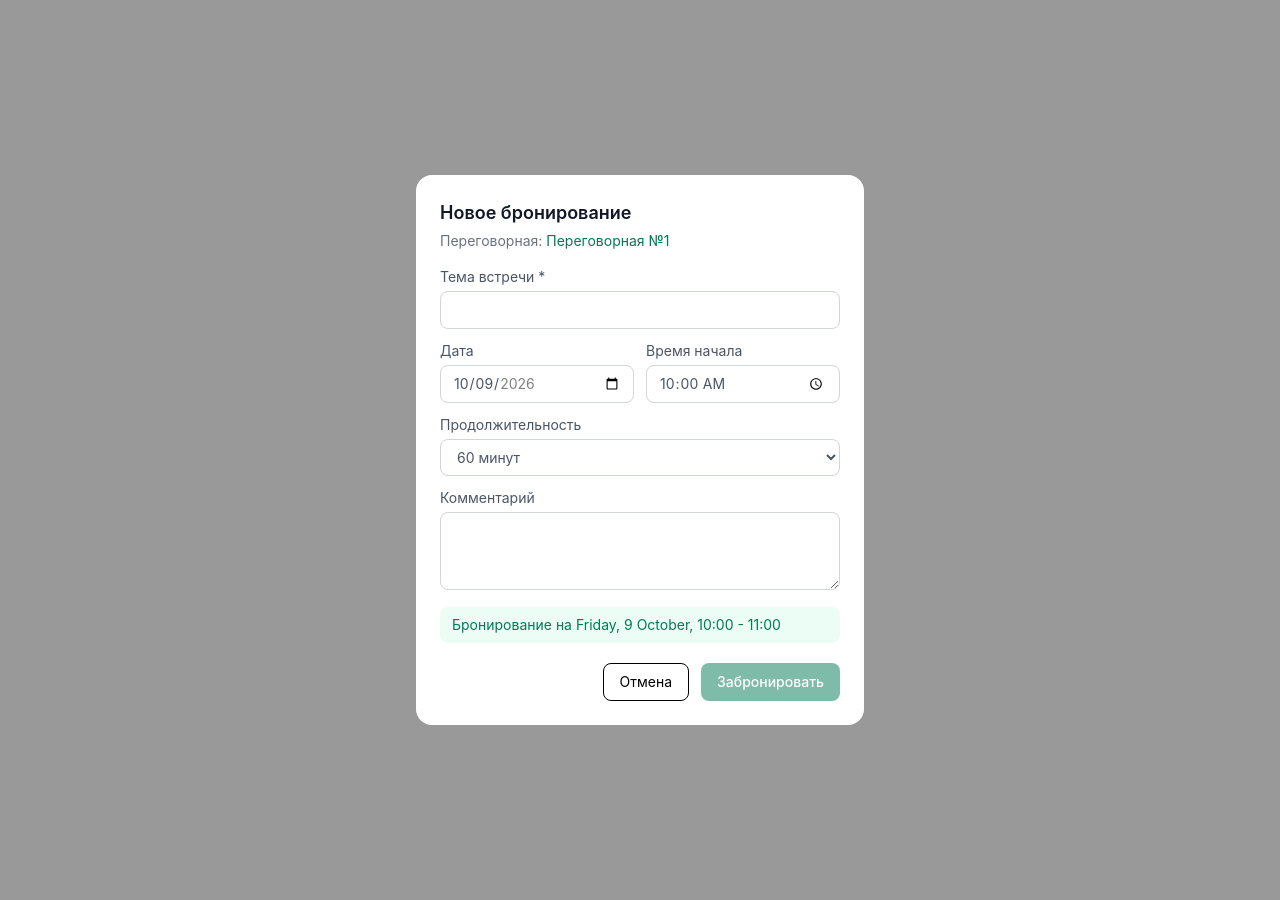
Test case: BookingModal › не отправляет форму при невалидном времени
This screenshot has width=1280, height=900.
Type "Встреча" into the field labelled "Тема встречи *" at (640, 310), box left=440, top=291, right=840, bottom=329
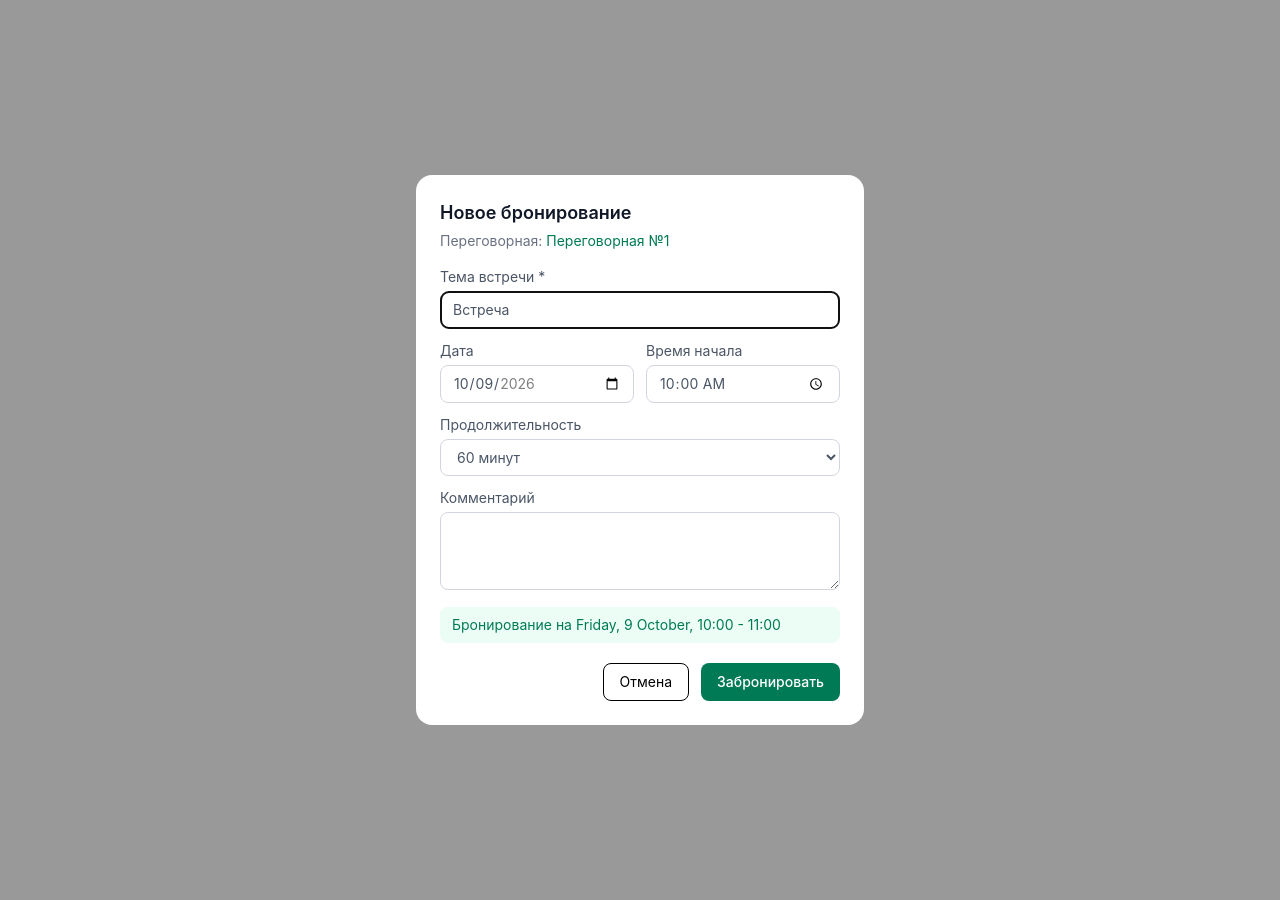
Replace the text in the time field labelled "Время начала" with "20:00" at (743, 384), box left=646, top=365, right=840, bottom=403
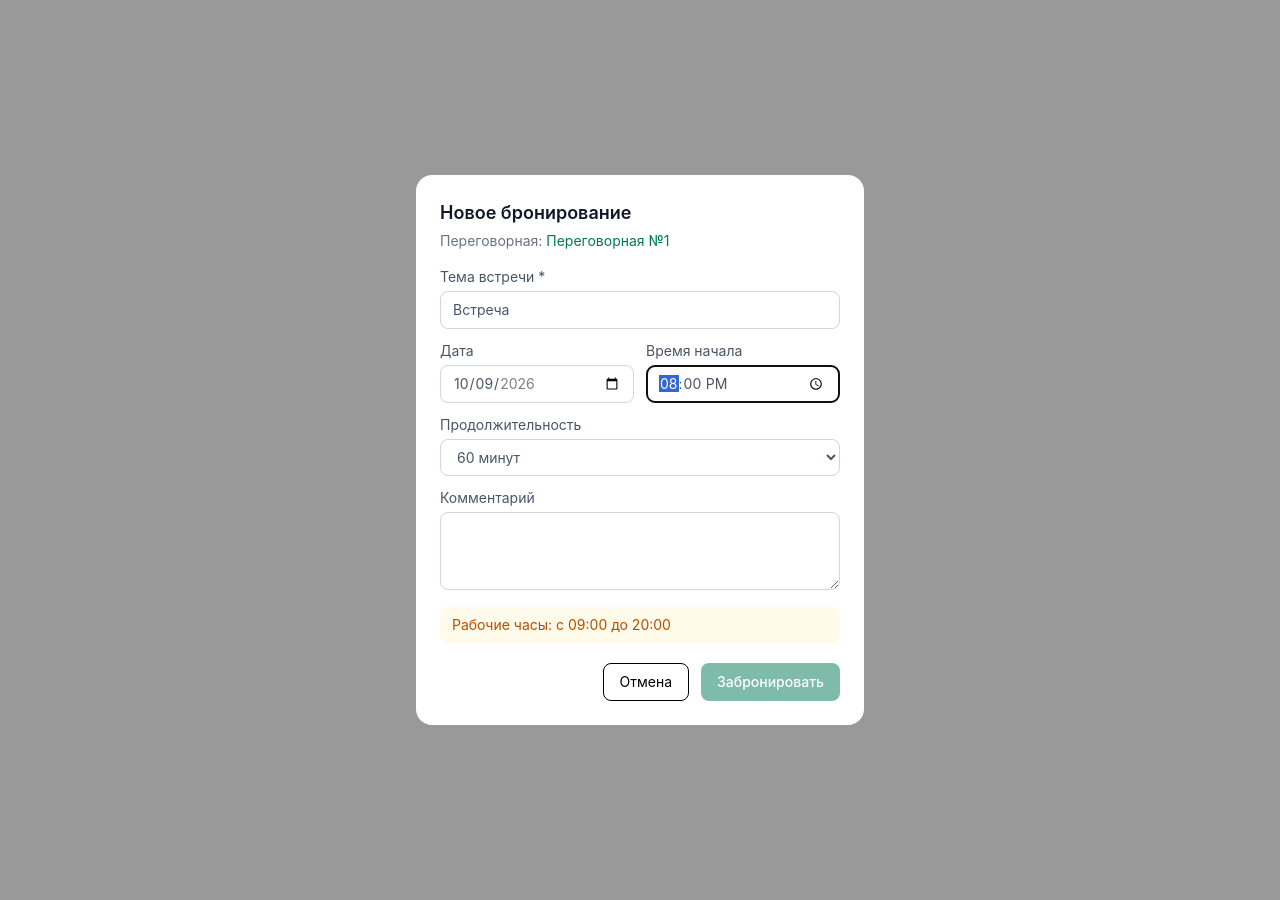
Expected: the button "Забронировать" is disabled, left=701, top=663, right=840, bottom=701
Expected: the text "Рабочие часы: с 09:00 до 20:00" is shown, left=440, top=607, right=840, bottom=643
